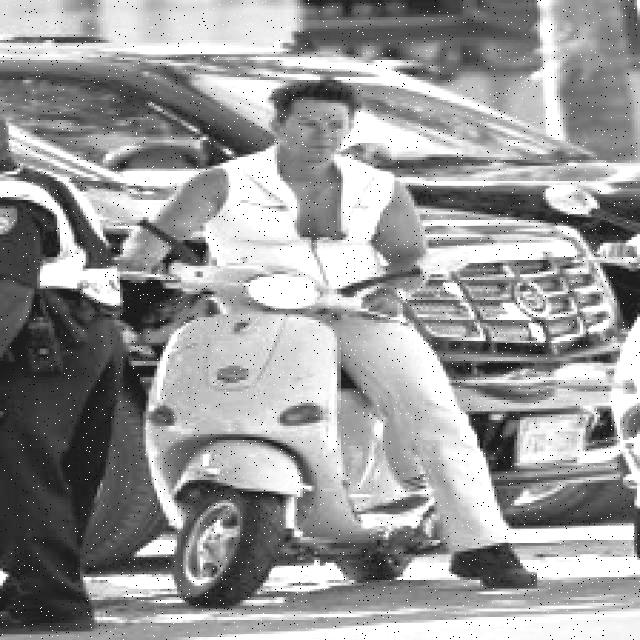Bike: (139, 256, 429, 619)
